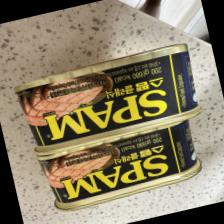spam: (10, 41, 204, 159), (32, 116, 206, 218)
